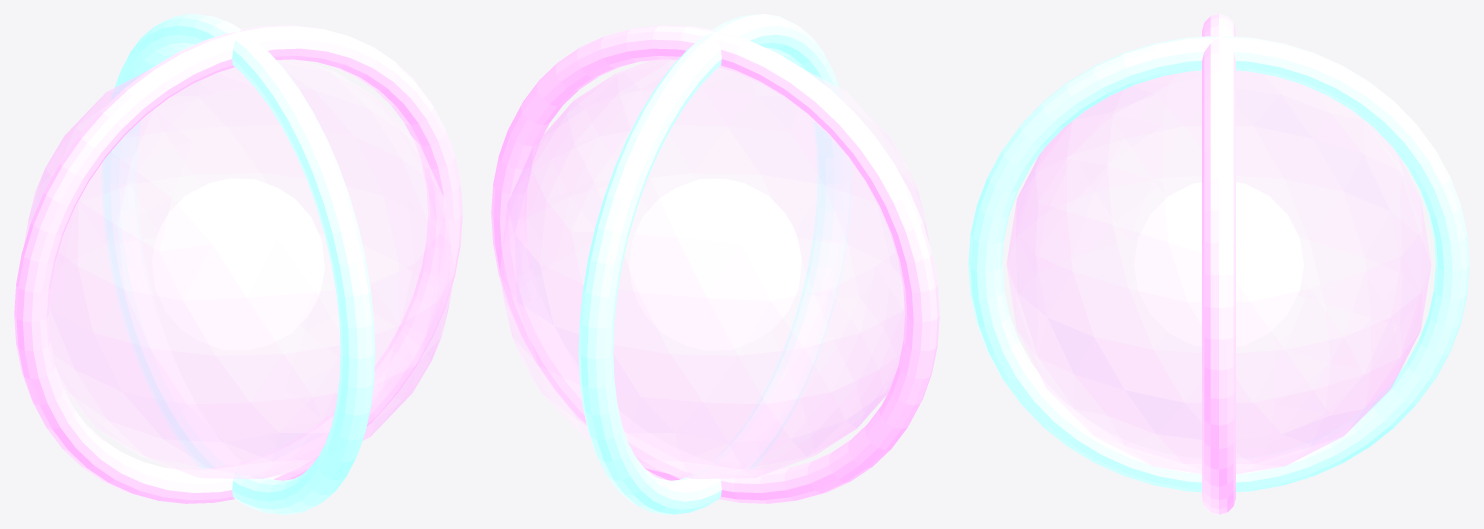
File: energy_orb.glb
3 views of the same model, side by side, from view 1: azimuth 30°, elevation 25°; view 2: azimuth 150°, elevation 25°; view 3: azimuth 270°, elevation 25° (orthographic). The views are drawn at different scales.
Parts seen in each view (by area): view 1: OuterShell, Ring1, Ring2, InnerCore; view 2: OuterShell, Ring1, Ring2, InnerCore; view 3: OuterShell, Ring2, InnerCore, Ring1.
Boxes of the visible parts, x1,y1,x2,y2 form: OuterShell: (24, 59, 454, 478); Ring1: (14, 25, 462, 503); Ring2: (102, 14, 375, 514); InnerCore: (152, 178, 324, 350); OuterShell: (499, 59, 929, 478); Ring1: (491, 25, 939, 503); Ring2: (578, 14, 851, 514); InnerCore: (629, 178, 801, 350); OuterShell: (1006, 70, 1431, 473); Ring2: (968, 36, 1469, 492); InnerCore: (1134, 182, 1303, 346); Ring1: (1202, 14, 1235, 514).
Bounding box in the file's own units: 1.18 × 1.18 × 1.18.
